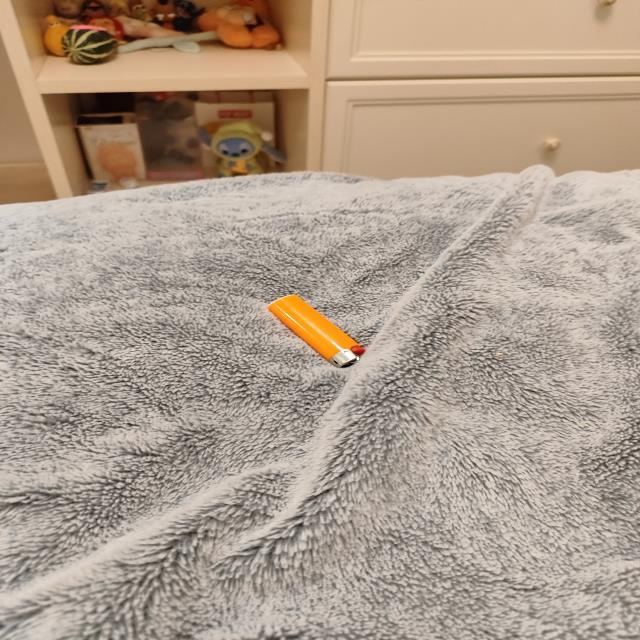lighter: (267, 295, 364, 366)
